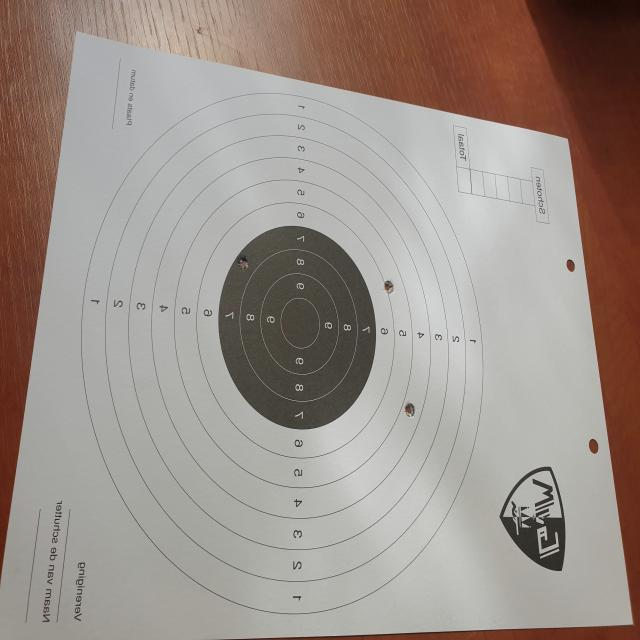4: (403, 400, 416, 420)
6: (382, 278, 396, 296)
7: (235, 255, 250, 272)
Target: (80, 90, 486, 619)
black_contour: (218, 225, 376, 430)
